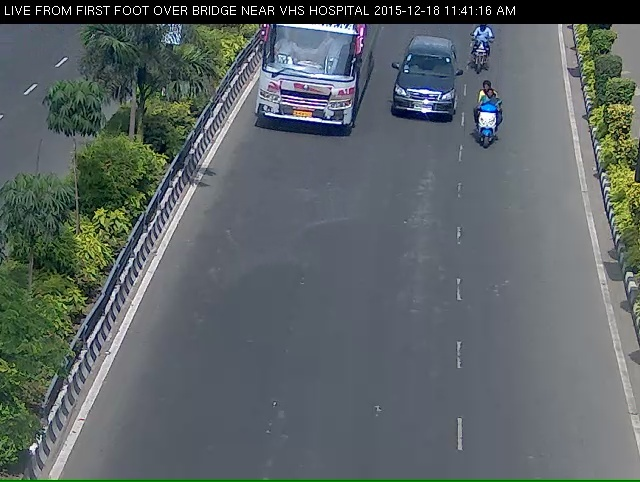Bus: (241, 21, 370, 149)
Car: (383, 45, 465, 144)
Person: (473, 95, 505, 169), (469, 33, 495, 84)
